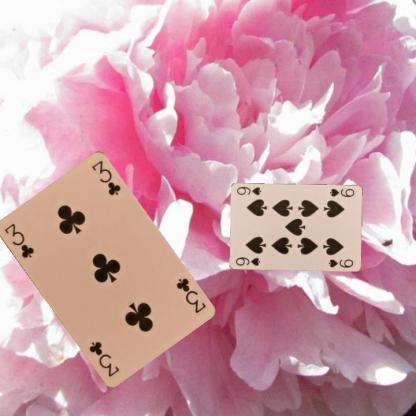3c: (1, 220, 35, 260), (173, 275, 207, 315)
9s: (233, 255, 261, 267), (327, 186, 355, 198)
